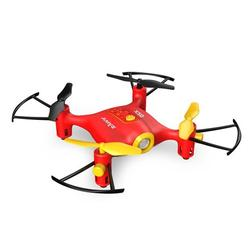drone: (10, 70, 242, 195)
